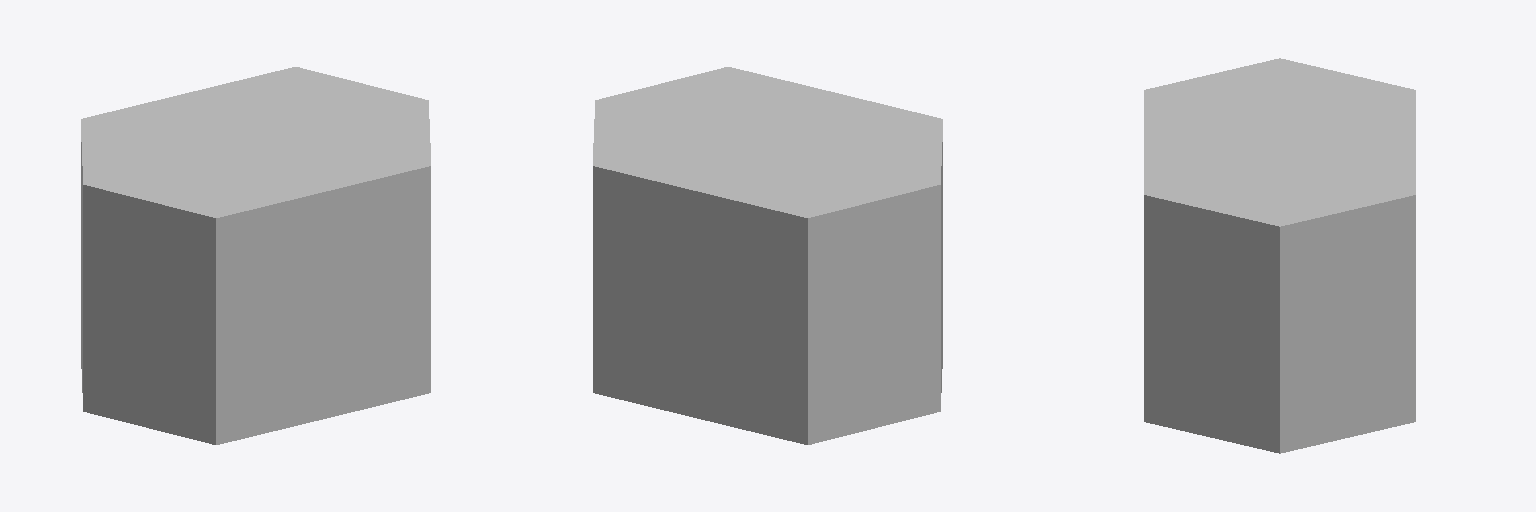
Rendered from badge_002.obj.
3 renders of one model, left to right at view 1: azimuth 30°, elevation 25°; view 2: azimuth 150°, elevation 25°; view 3: azimuth 270°, elevation 25°, orthographic.
Visible parts, largest first — view 1: Cube.001_Cube.002; view 2: Cube.001_Cube.002; view 3: Cube.001_Cube.002.
Part boxes in pixels (left/top/right/bottom): Cube.001_Cube.002: left=81, top=67, right=430, bottom=444; Cube.001_Cube.002: left=593, top=67, right=942, bottom=444; Cube.001_Cube.002: left=1144, top=58, right=1415, bottom=453.
Bounding box in the file's own units: 0.1009 × 0.0634 × 0.0686.